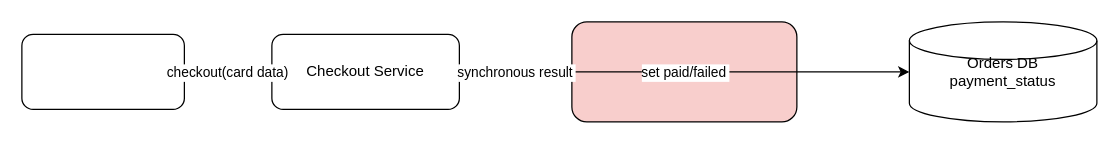
Some shapes in this 1119 by 144 pixel diagram are drawn without their labels. Here are the shapes that lost their labels. From the top down, the box of each, then its label:
(21, 33, 184, 109): Покупатель
(571, 21, 797, 122): Единственный Provider API
